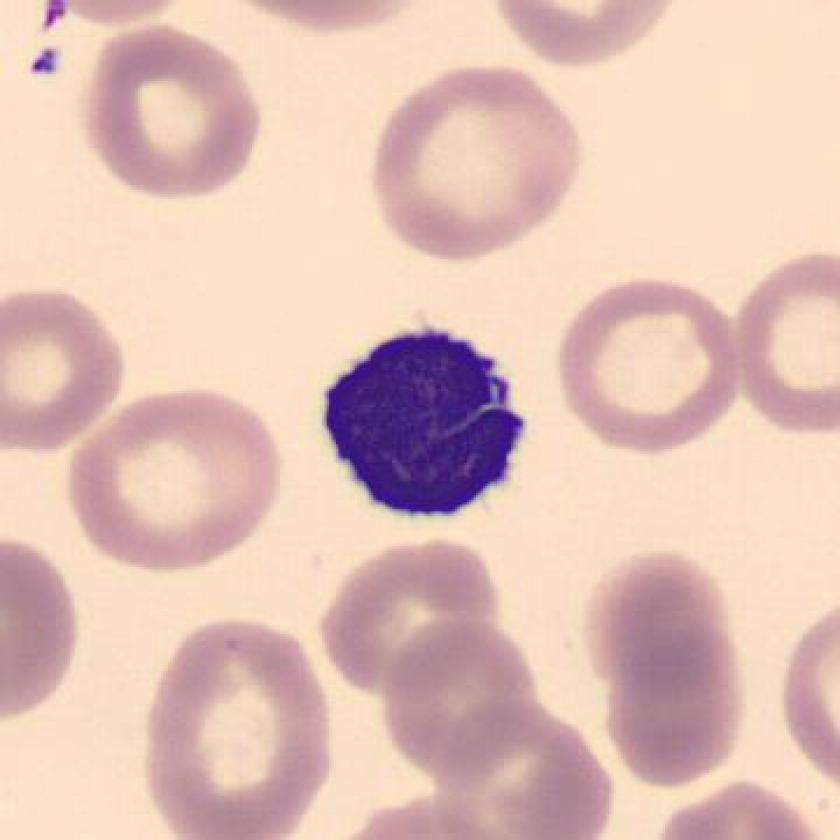lymphocyte: (311, 307, 533, 534)
